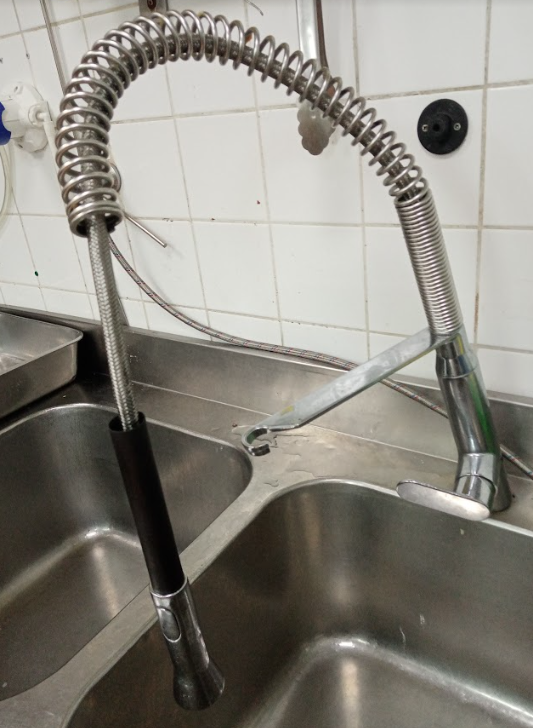Deck Faucet: (39, 9, 526, 716)
